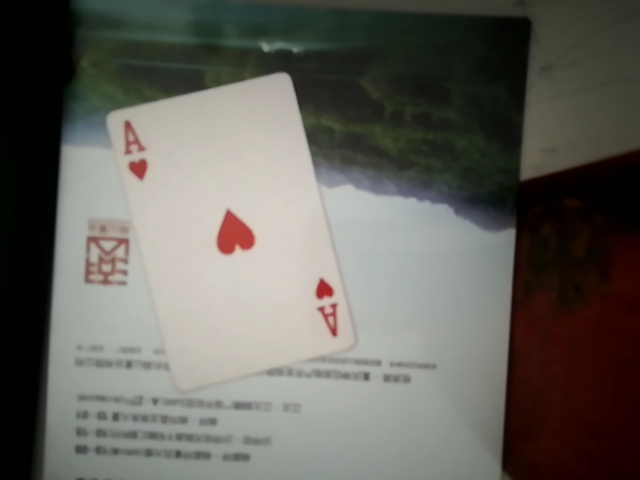hx a: (99, 70, 351, 377)
